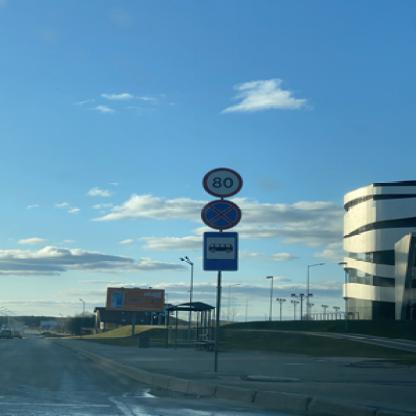speedlimit: (200, 166, 241, 196)
